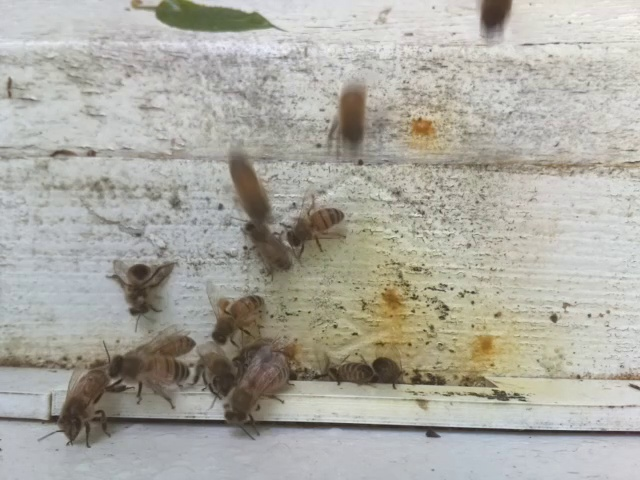bee: (217, 350, 296, 441), (48, 361, 124, 450), (95, 336, 195, 403), (198, 273, 275, 351), (103, 251, 182, 324), (220, 147, 282, 226), (284, 189, 351, 257), (321, 80, 378, 157), (234, 217, 292, 276), (308, 342, 375, 392), (189, 344, 242, 401), (369, 347, 414, 393)
